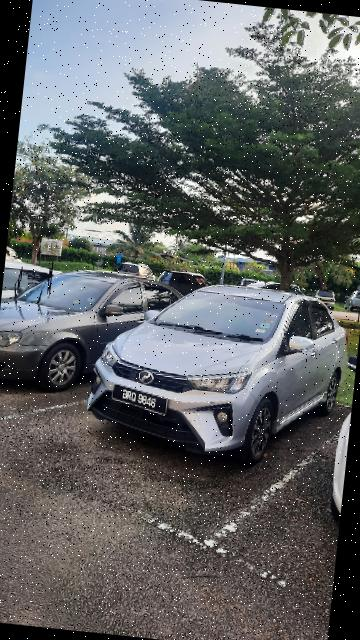License_Plate: (110, 381, 173, 420)
car: (88, 269, 357, 477), (1, 257, 199, 405)
